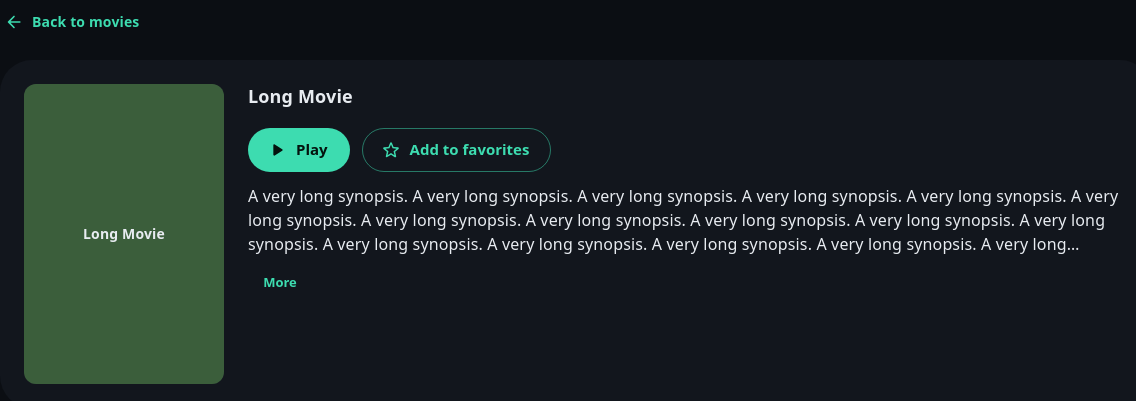
Test: MovieDetailsScreen — server text is text (VOD-02 AC2) › a long synopsis is clamped with "More"/"Less"
This screenshot has width=1136, height=401.
Check: the heading "Long Movie" is shown, box [248,84,353,108]
Click the button "More". click: (280, 282)
box: [248,260,312,304]
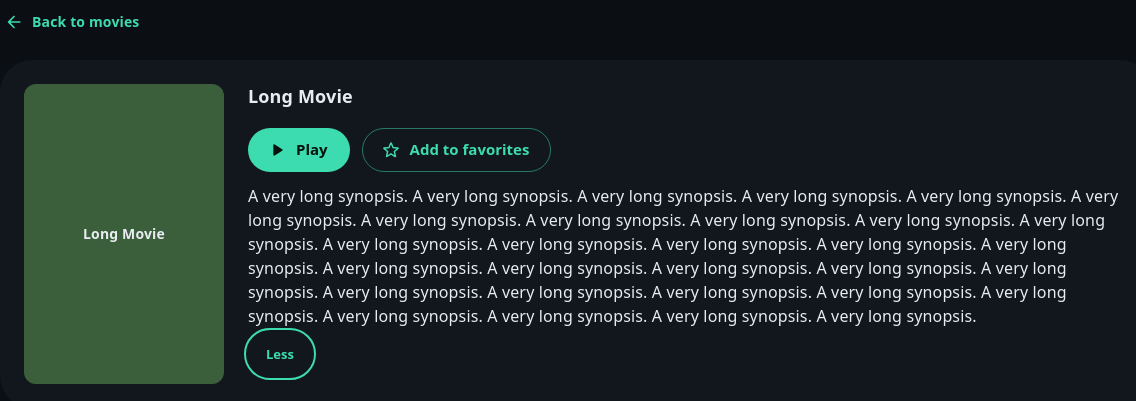
Check: the button "Less" is expanded, box [248,332,312,376]
